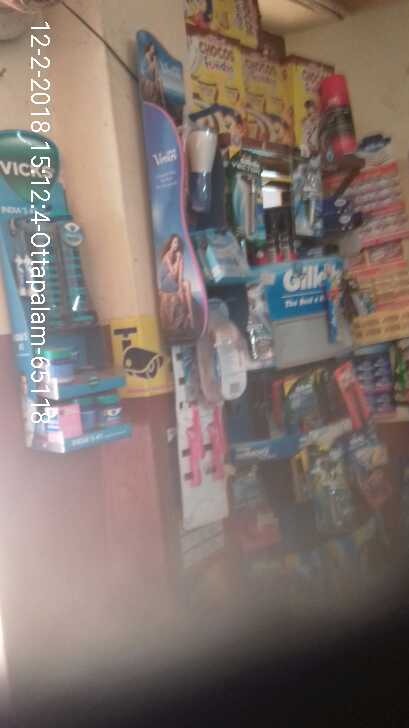beauty: (200, 232, 254, 290), (187, 119, 219, 215)
pharmacy: (99, 391, 129, 429), (75, 398, 97, 431)
